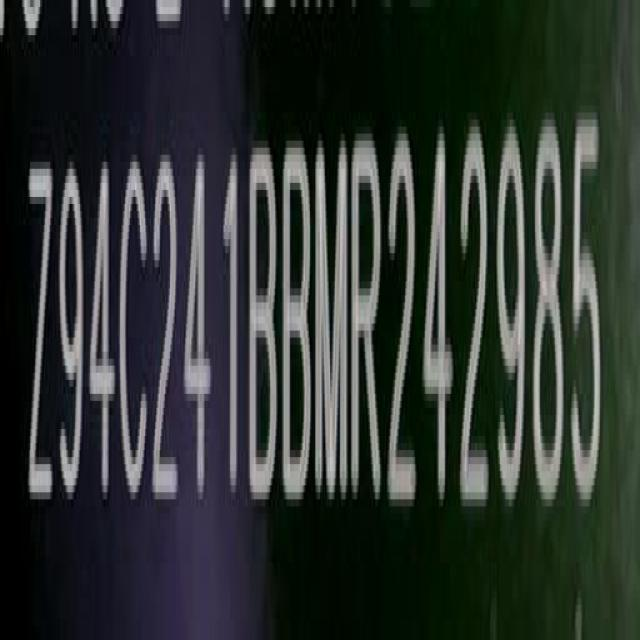1: (221, 146, 245, 515)
2: (456, 122, 490, 518), (388, 129, 422, 516), (153, 145, 184, 518)
4: (422, 125, 455, 517), (186, 151, 214, 517), (89, 159, 117, 512)
5: (572, 108, 604, 513)
8: (535, 118, 568, 512)
9: (498, 115, 529, 513), (57, 162, 86, 512)
B: (283, 137, 315, 510), (248, 143, 280, 512)
C: (119, 154, 150, 514)
M: (314, 136, 348, 512)
R: (351, 130, 384, 510)
Z: (21, 158, 53, 518)
